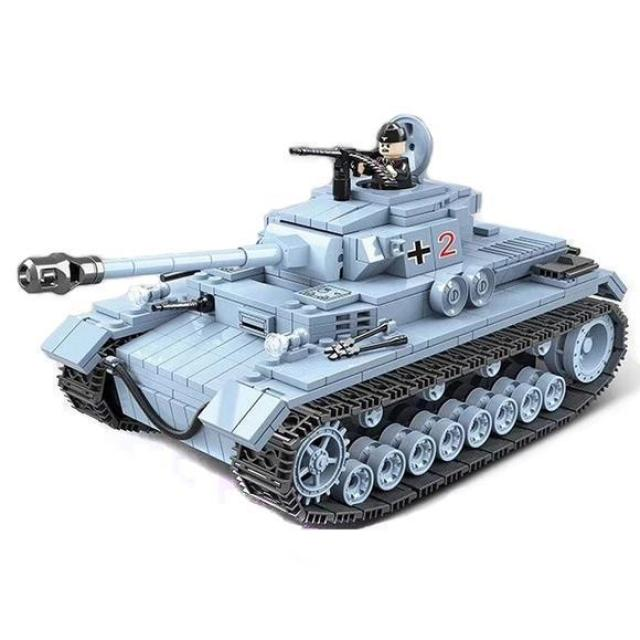Tanks: (34, 104, 628, 532)
